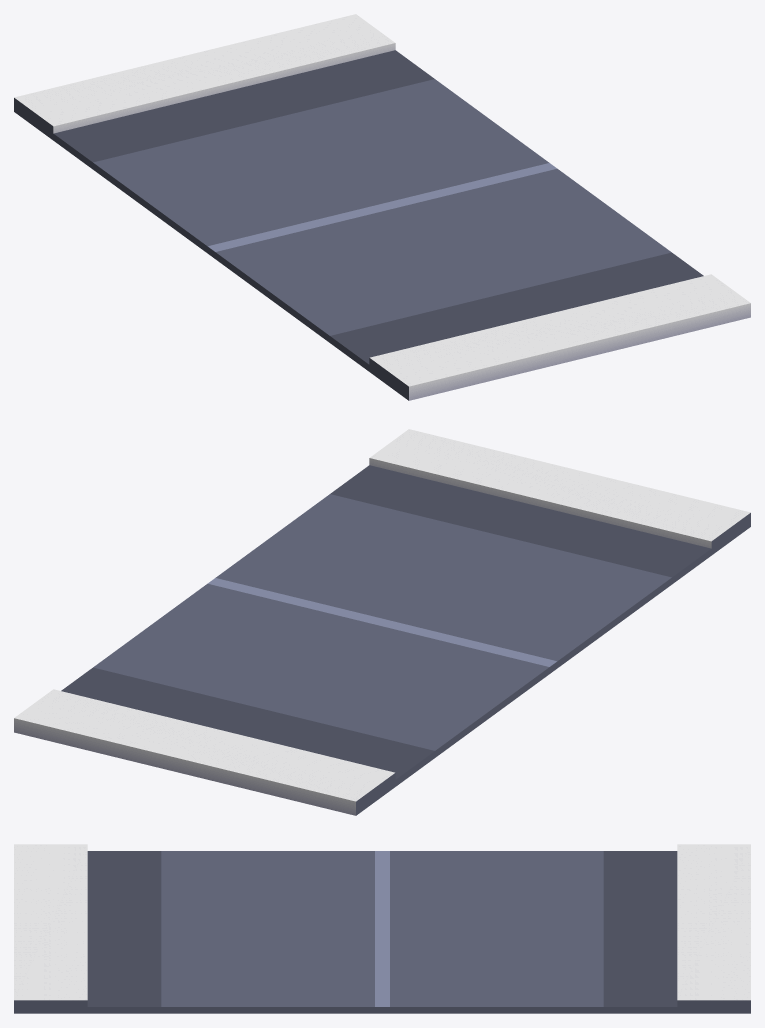
The model's file is road-straight-half.glb.
3 renders of one model, top to bottom at view 1: azimuth 30°, elevation 25°; view 2: azimuth 150°, elevation 25°; view 3: azimuth 270°, elevation 25°, orthographic. The views are drawn at different scales.
Visible parts, largest first — view 1: road-straight-half; view 2: road-straight-half; view 3: road-straight-half.
Boxes of the visible parts, x1,y1,x2,y2 form: road-straight-half: (14, 14, 750, 400); road-straight-half: (14, 429, 750, 815); road-straight-half: (14, 844, 750, 1013).
Bounding box in the file's own units: 0.5 × 0.02 × 1.
Materials: 1 (1 with a texture image).
